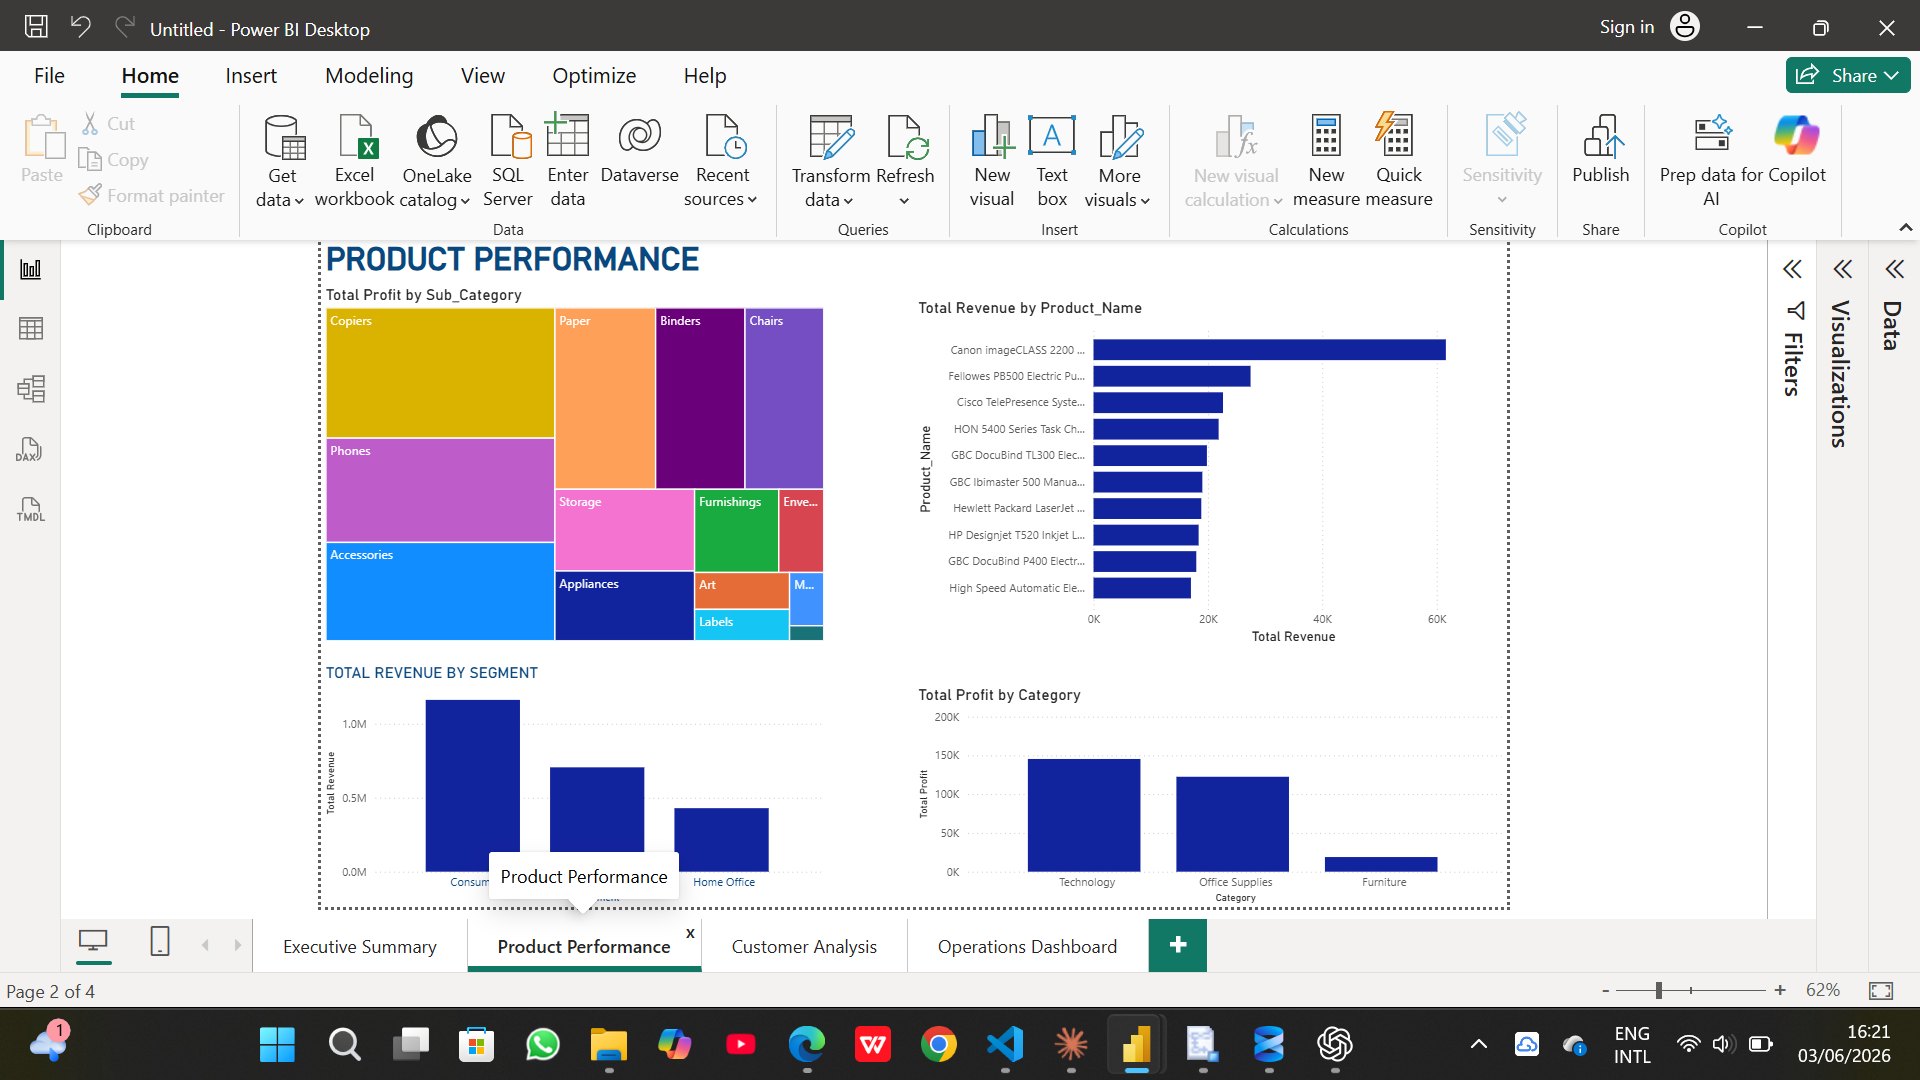

Layout of this report page (visuals, bound fields, positions):
{"tool":"powerbi","page":{"name":"Product Performance","canvas":[1280,720],"ordinal":1},"visuals":[{"type":"clusteredColumnChart","title":"TOTAL REVENUE BY SEGMENT","fields":{"Category":["superstore_clean.Segment"],"Y":["superstore_clean.Total Revenue"]},"box":[0,456.6,547.3,263.9],"z":0},{"type":"barChart","fields":{"Category":["superstore_clean.Product_Name"],"Y":["superstore_clean.Total Revenue"]},"box":[639.6,63.1,641.2,377.3],"z":1000},{"type":"clusteredColumnChart","fields":{"Category":["superstore_clean.Category"],"Y":["superstore_clean.Total Profit"]},"box":[639.6,480.9,641.2,239.6],"z":2000},{"type":"treemap","fields":{"Group":["superstore_clean.Sub_Category"],"Values":["superstore_clean.Total Profit"]},"box":[0,48.6,547.3,388.6],"z":3000},{"type":"textbox","title":"PRODUCT PERFORMANCE","box":[0,0,1280.8,48.6],"z":4000}]}

Visuals, with their boxes on the page's 1280x720 design canvas (x1, y1, x2, y2). These are canvas units, not pixel positions in the 1920x1080 screenshot, which may show the page scaled, cropped or inside an application window:
"TOTAL REVENUE BY SEGMENT" clusteredColumnChart: 0/457/547/720
barChart - superstore_clean.Product_Name x superstore_clean.Total Revenue: 640/63/1281/440
clusteredColumnChart - superstore_clean.Category x superstore_clean.Total Profit: 640/481/1281/720
treemap - superstore_clean.Sub_Category x superstore_clean.Total Profit: 0/49/547/437
"PRODUCT PERFORMANCE" textbox: 0/0/1281/49
